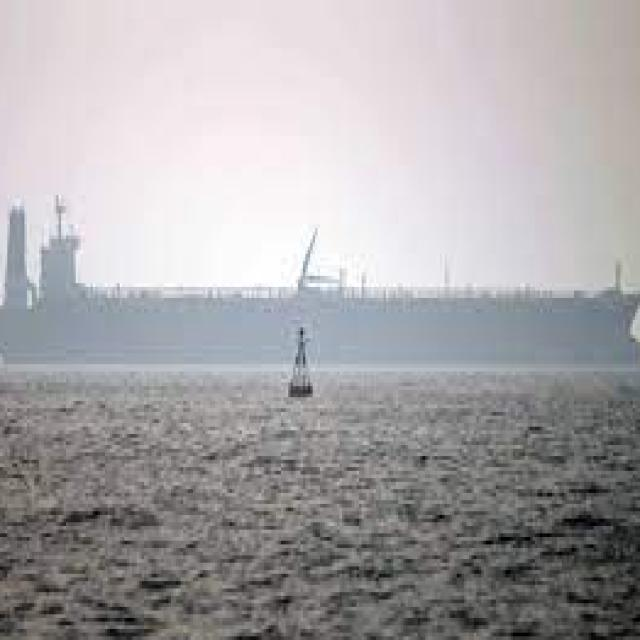cargoship: (0, 176, 640, 368)
sailboat: (281, 317, 327, 399)
